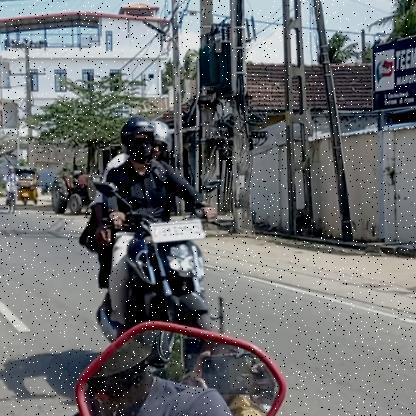motorcycle: (93, 213, 236, 344)
